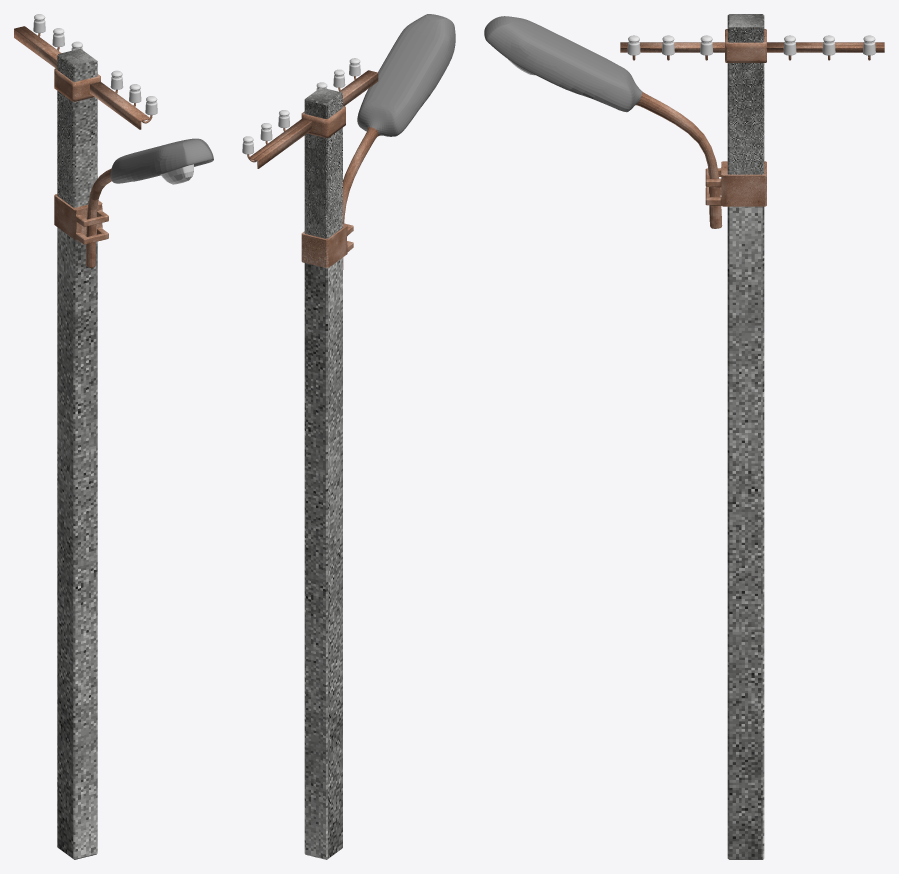
Rendered from ukitFanar.fbx.
The picture shows the model from 3 angles, left to right: view 1: azimuth 30°, elevation 25°; view 2: azimuth 150°, elevation 25°; view 3: azimuth 270°, elevation 25°; orthographic projection. The views are drawn at different scales.
Parts seen in each view (by area): view 1: Cube.004, Cube.001, Cube.002, Cube, Cube.005, Cube.003; view 2: Cube.004, Cube.001, Cube.002, Cube, Cube.005; view 3: Cube.004, Cube.001, Cube, Cube.002, Cube.005.
Boxes of the visible parts, x1,y1,x2,y2 form: Cube.004: (57, 48, 97, 859); Cube.001: (85, 138, 213, 267); Cube.002: (14, 26, 150, 129); Cube: (54, 194, 108, 244); Cube.005: (54, 68, 100, 101); Cube.003: (160, 164, 193, 184); Cube.004: (304, 87, 342, 859); Cube.001: (343, 14, 455, 269); Cube.002: (248, 70, 378, 168); Cube: (301, 223, 353, 267); Cube.005: (301, 106, 345, 137); Cube.004: (727, 14, 764, 859); Cube.001: (484, 16, 722, 228); Cube: (705, 161, 766, 206); Cube.002: (620, 42, 884, 52); Cube.005: (725, 29, 766, 62).
Size of the model in its own units: 419 by 5762 by 2505.
